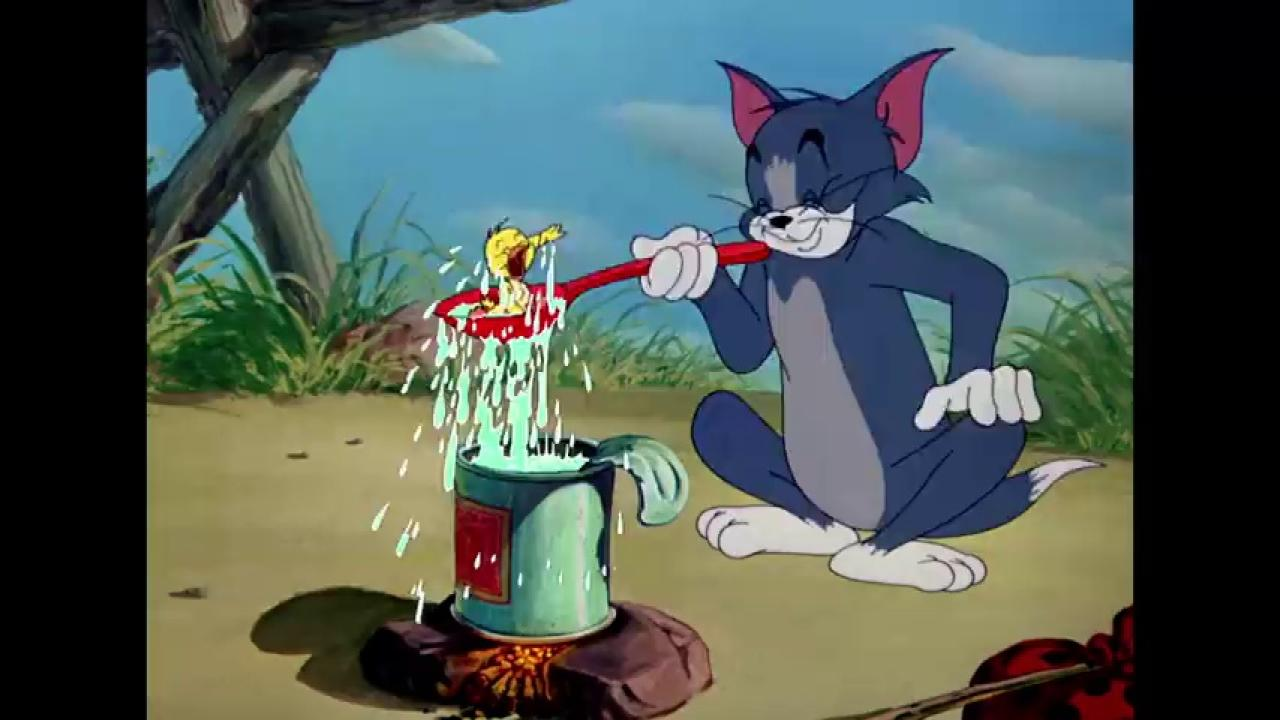Tom: (628, 45, 1110, 594)
